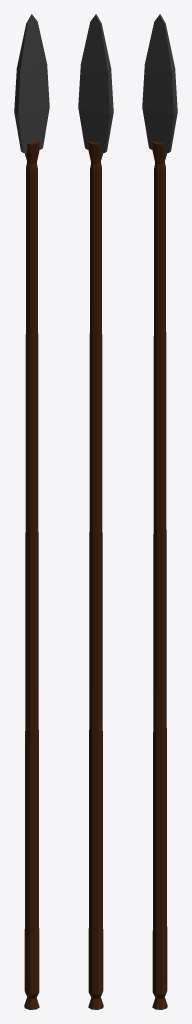
Rendered from spear.obj.
The picture shows the model from 3 angles, left to right: view 1: azimuth 30°, elevation 25°; view 2: azimuth 150°, elevation 25°; view 3: azimuth 330°, elevation 25°; orthographic projection.
Visible parts, largest first — view 1: Spear_Cube; view 2: Spear_Cube; view 3: Spear_Cube.
Part boxes in pixels (bbox=[...]): Spear_Cube: bbox=[14, 14, 49, 1009]; Spear_Cube: bbox=[78, 14, 113, 1009]; Spear_Cube: bbox=[142, 14, 177, 1009].
Size of the model in its own units: 0.1395 by 4.2 by 0.0622.
